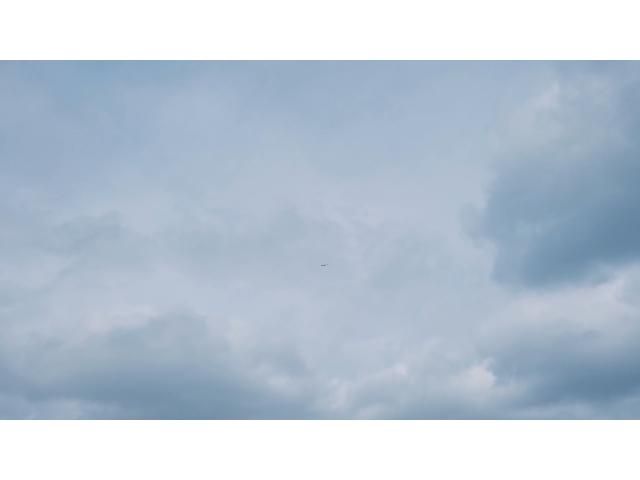Anti-Drone: (318, 261, 330, 269)
